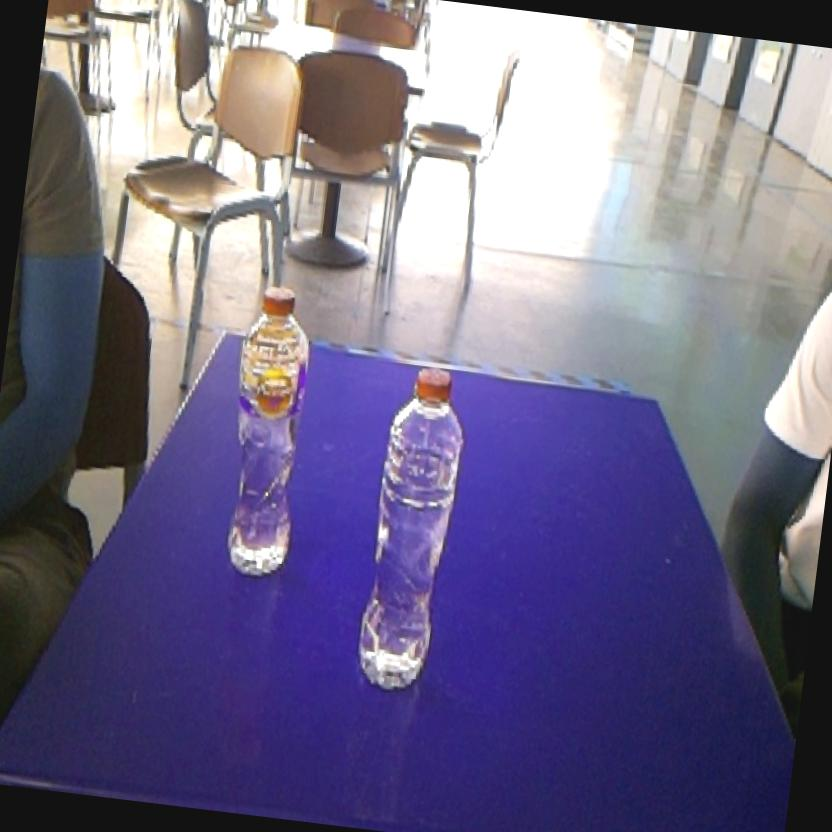good: (204, 276, 336, 586)
no_label: (345, 354, 478, 702)
